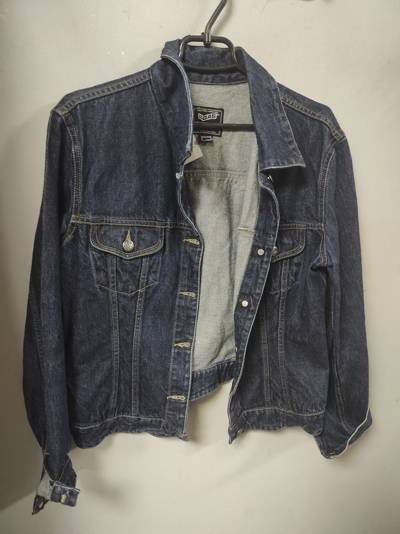Blazer: (27, 51, 382, 505)
